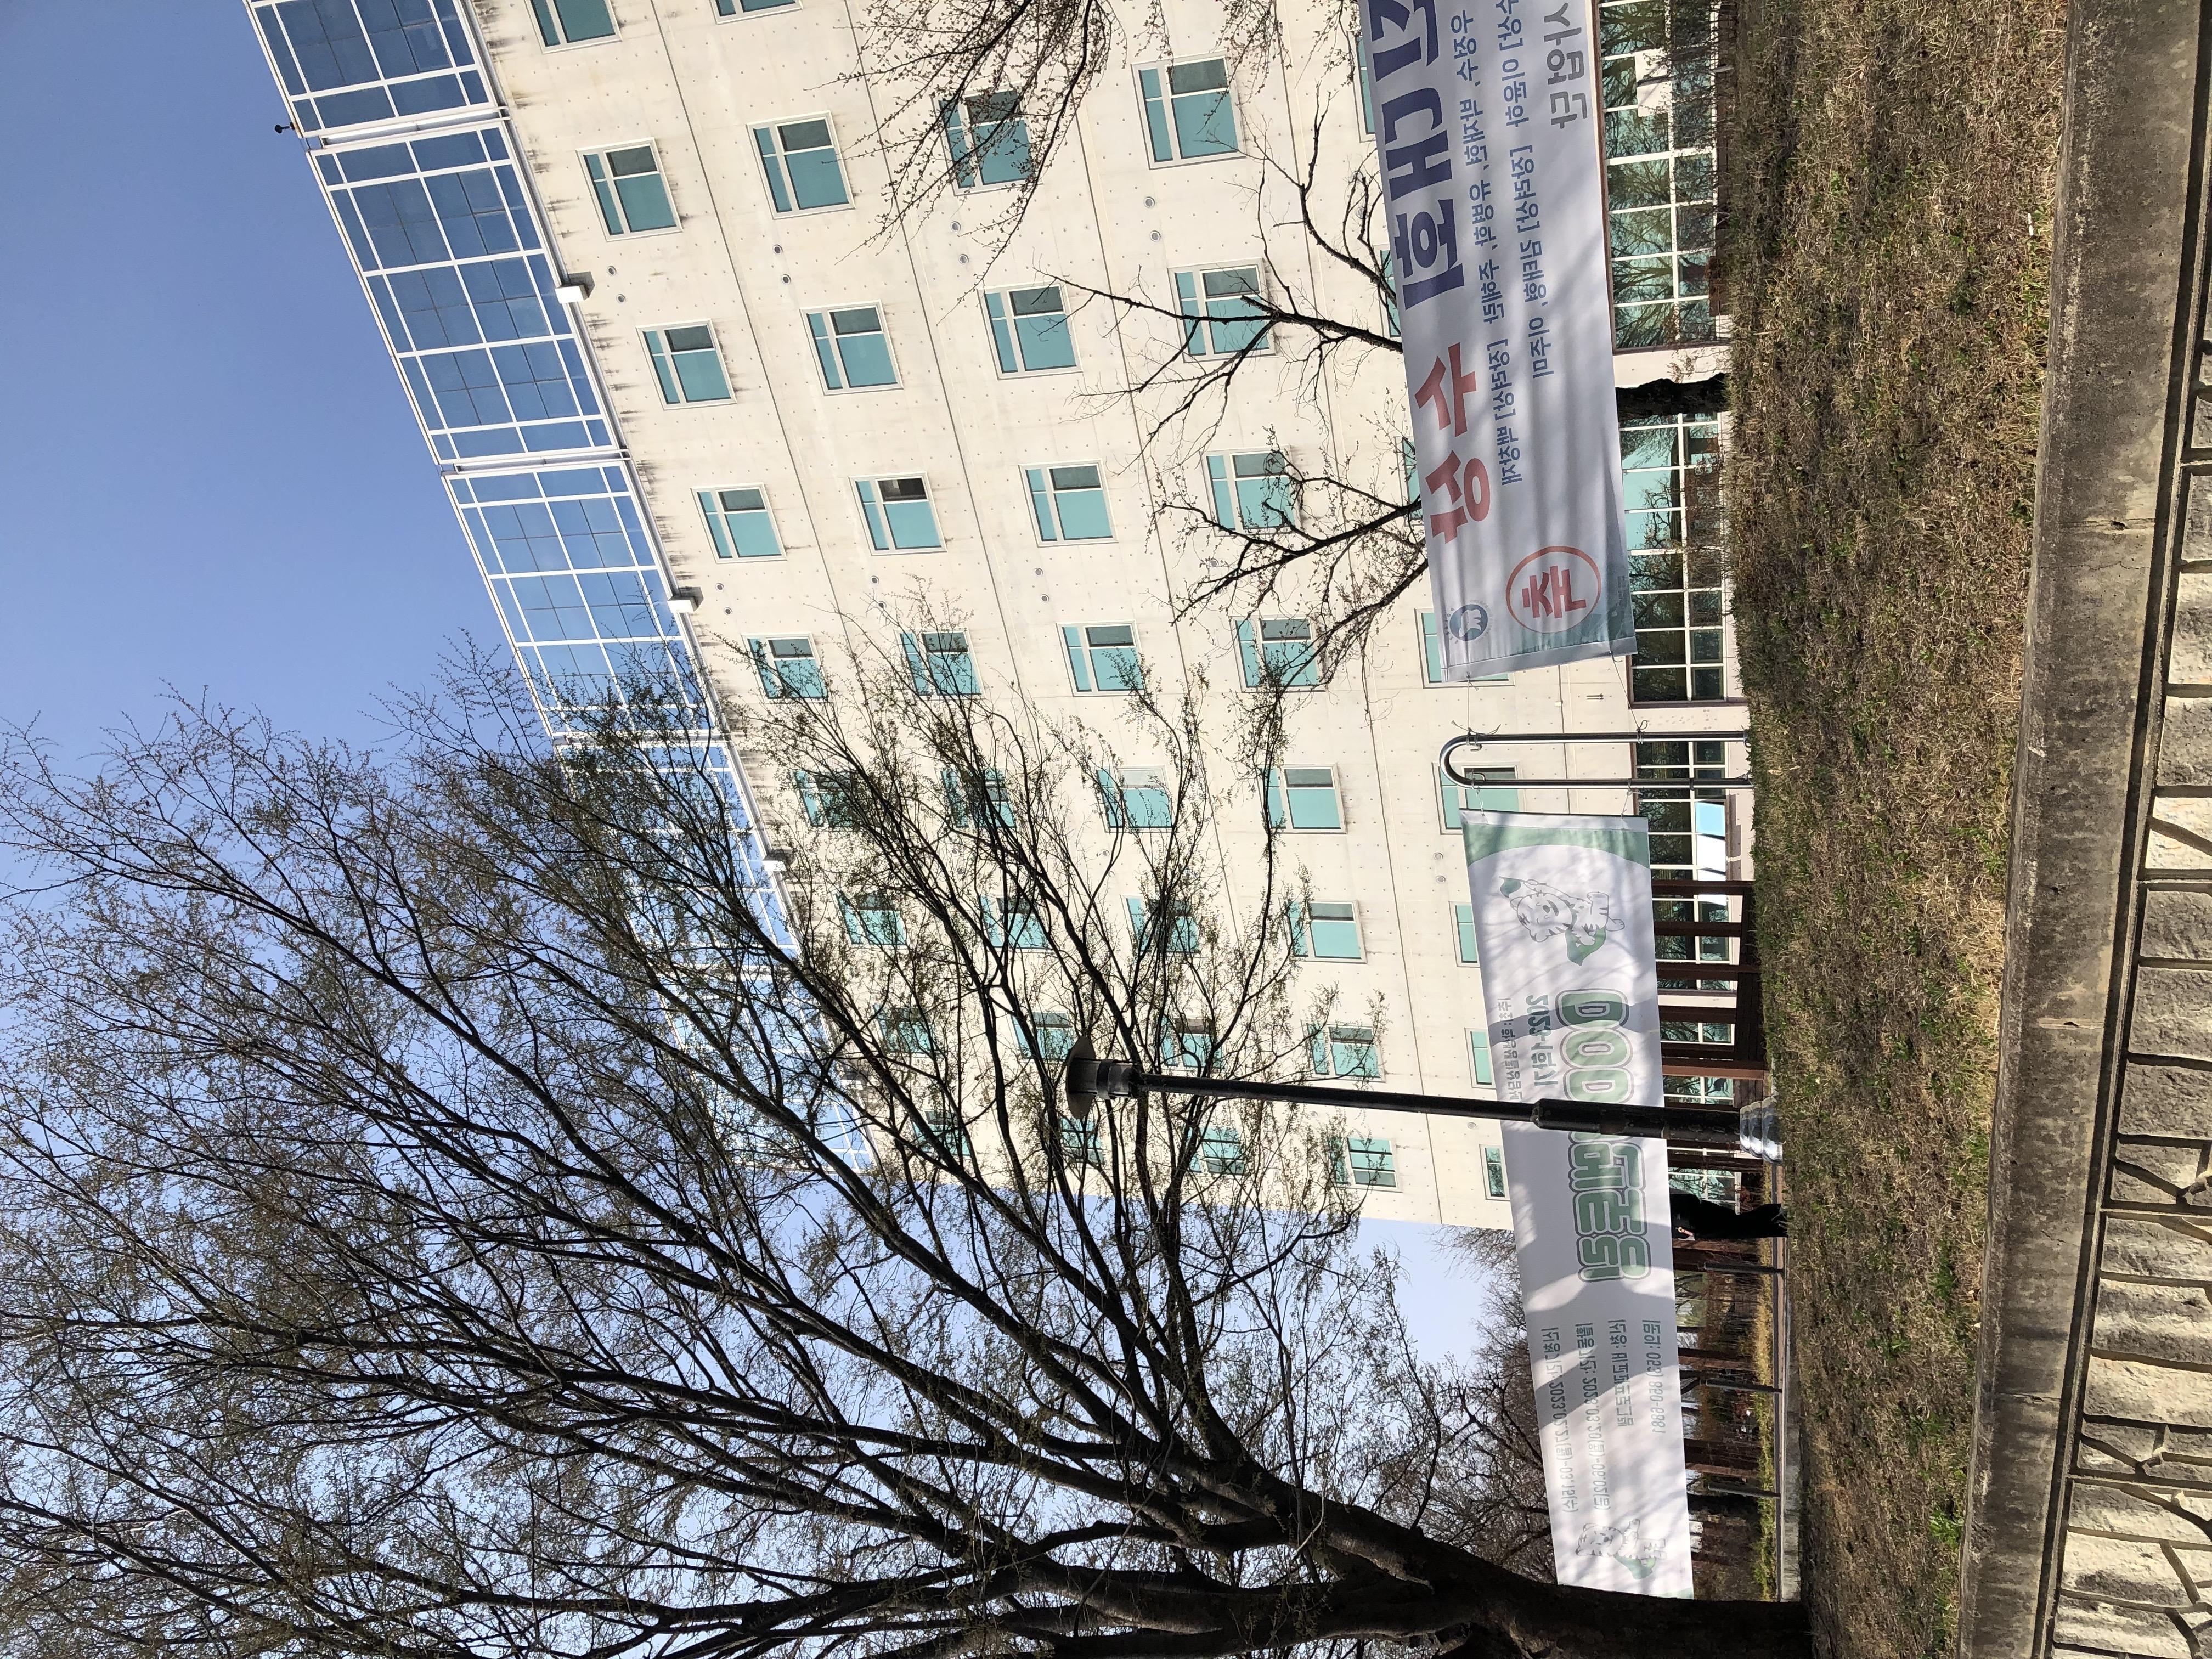building: (472, 160, 2212, 1342)
